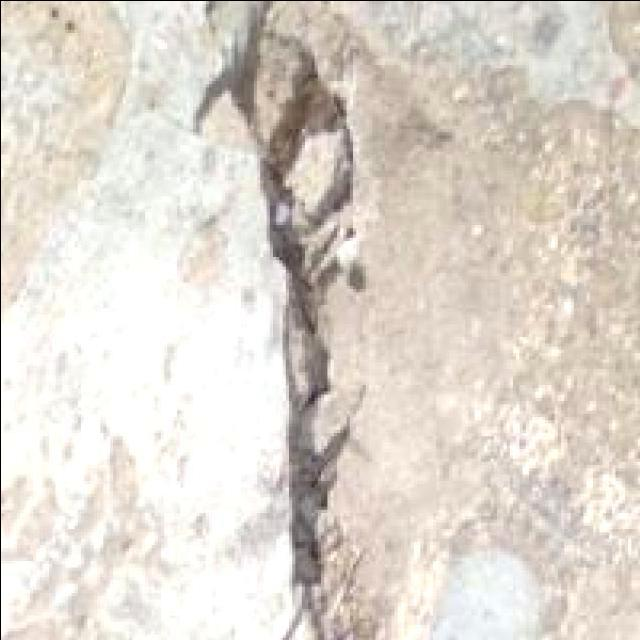SurfaceCrack: (158, 0, 384, 592)
